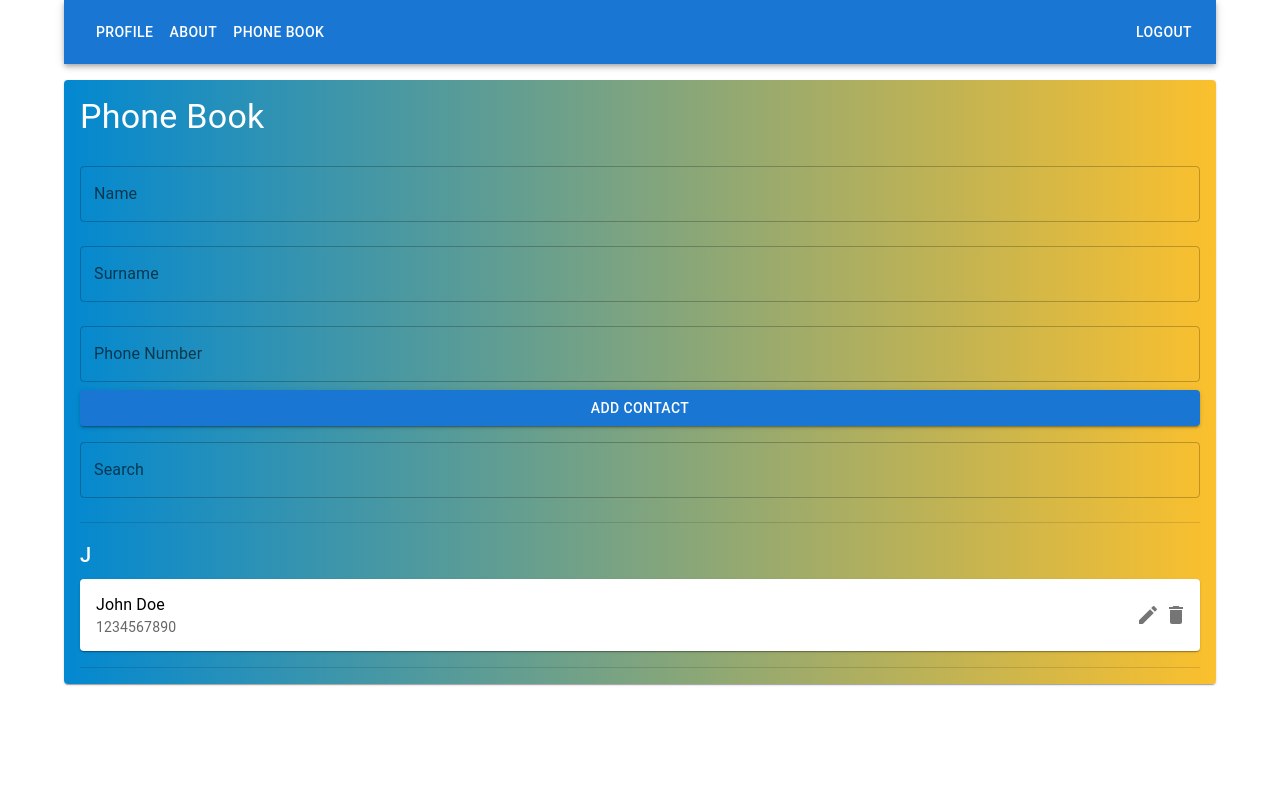
it: PhoneBookPage › deletes a contact
Click the button with test id "delete-button-1": (1176, 615) [1156,595,1196,635]
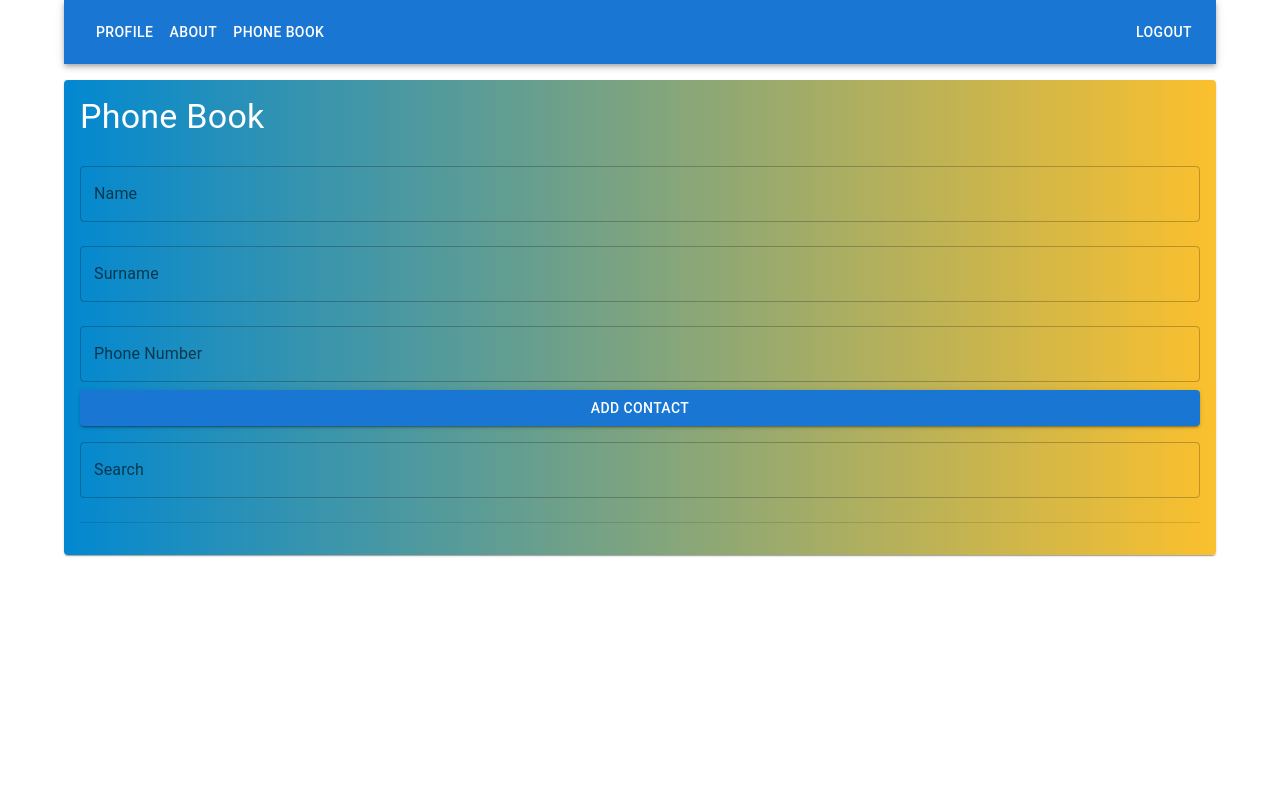
Now the text "John Doe" is gone
Now the text "1234567890" is gone
